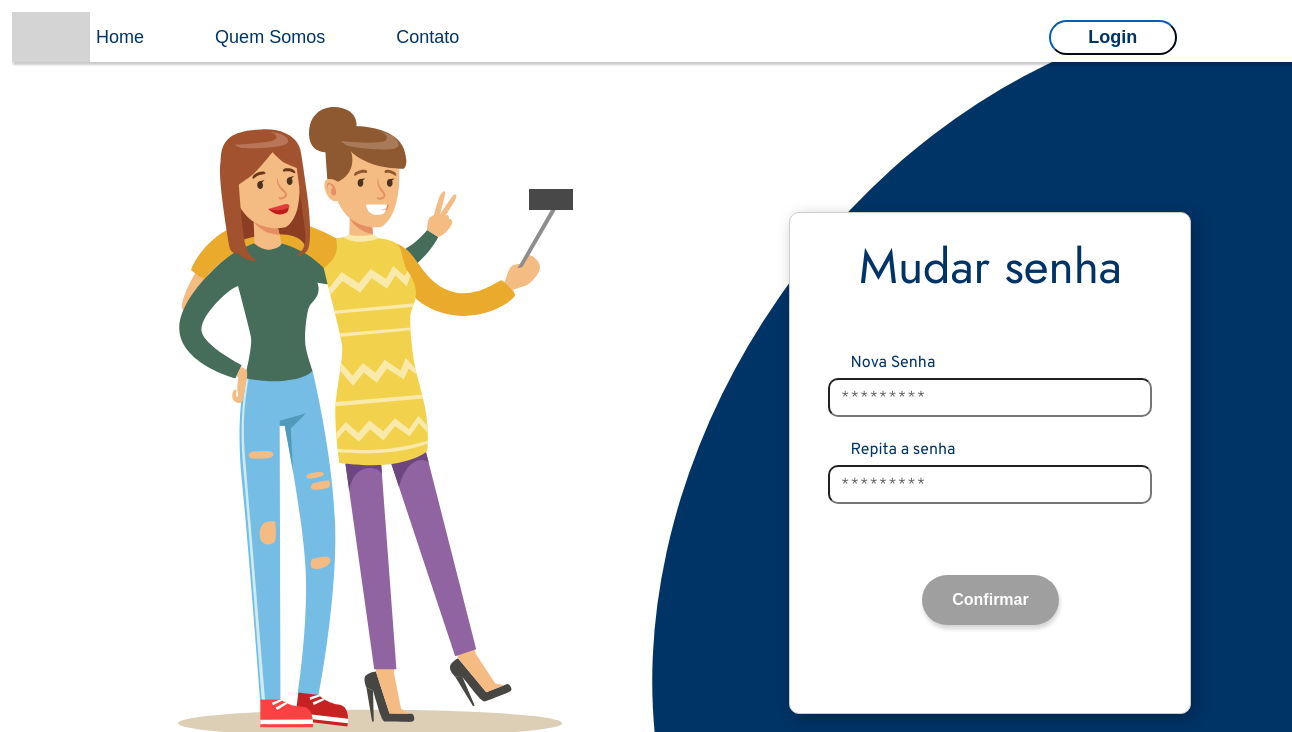
Test: enables submit button when valid
Type "ValidPassword1@" into the password field with test id "input-nova-senha" at (990,398), box top-left (828, 378), bottom-right (1152, 417)
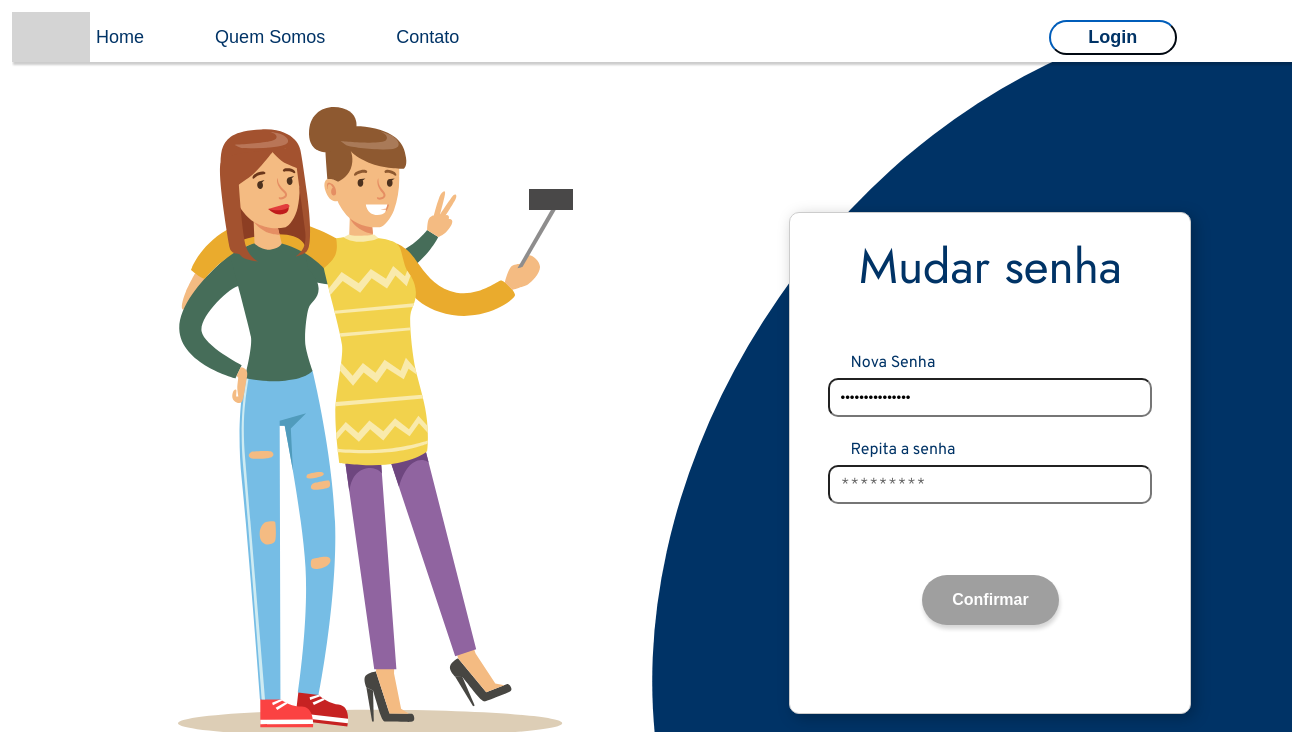
Type "ValidPassword1@" into the password field with test id "input-repita-senha" at (990,485), box top-left (828, 465), bottom-right (1152, 504)
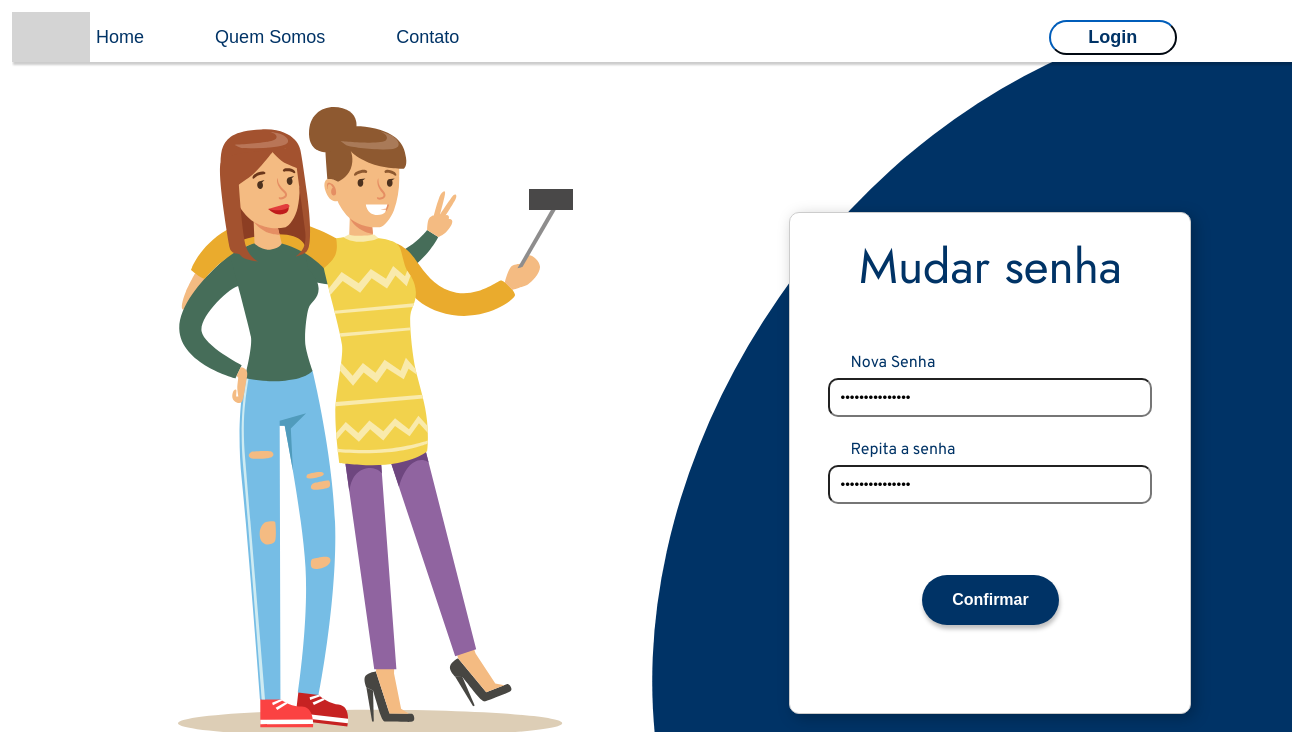
Expected: the button "Confirmar" is enabled, top-left (922, 575), bottom-right (1059, 625)
